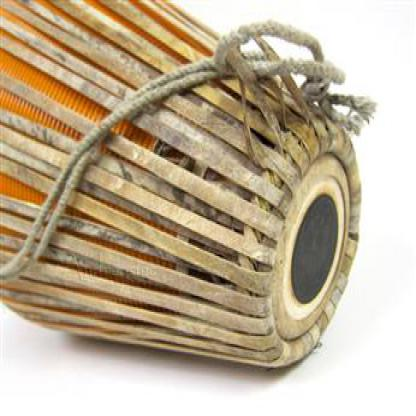Mridangam: (1, 1, 365, 374)
